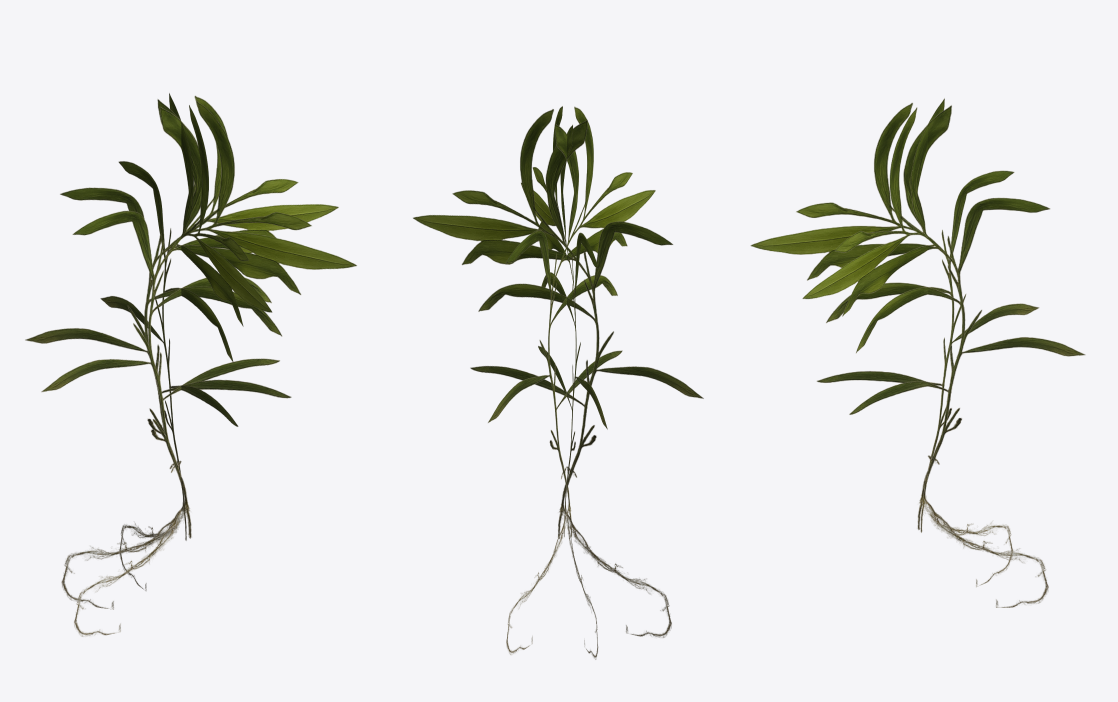
File: Potamogeton.glb
3 views of the same model, side by side, from view 1: azimuth 30°, elevation 25°; view 2: azimuth 150°, elevation 25°; view 3: azimuth 270°, elevation 25° (orthographic). The views are drawn at different scales.
Parts seen in each view (by area): view 1: Potamogeton (en el Paraná Potamogeton illinoensis; view 2: Potamogeton (en el Paraná Potamogeton illinoensis; view 3: Potamogeton (en el Paraná Potamogeton illinoensis.
Boxes of the visible parts, x1,y1,x2,y2 form: Potamogeton (en el Paraná Potamogeton illinoensis: (25, 93, 356, 636); Potamogeton (en el Paraná Potamogeton illinoensis: (413, 106, 703, 659); Potamogeton (en el Paraná Potamogeton illinoensis: (750, 98, 1085, 607).
Bounding box in the file's own units: 1.01 × 1.64 × 1.04.
Materials: 3 (3 with a texture image).
